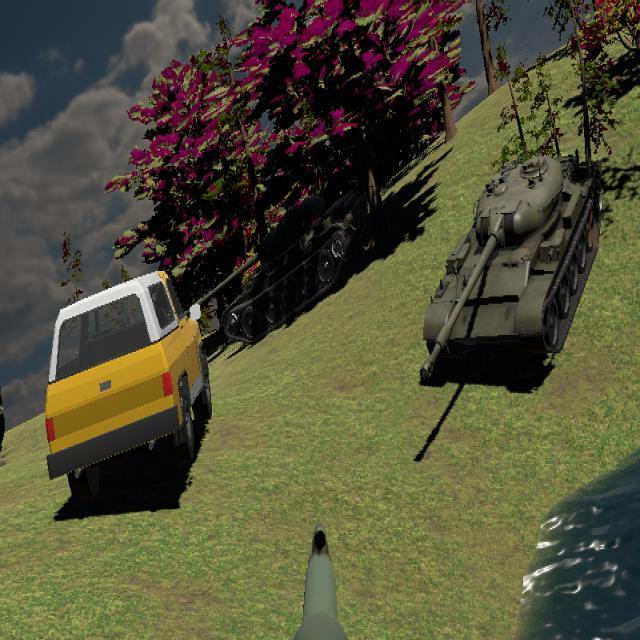Tank: (422, 150, 604, 385), (172, 186, 376, 348)
car: (46, 272, 214, 503)
